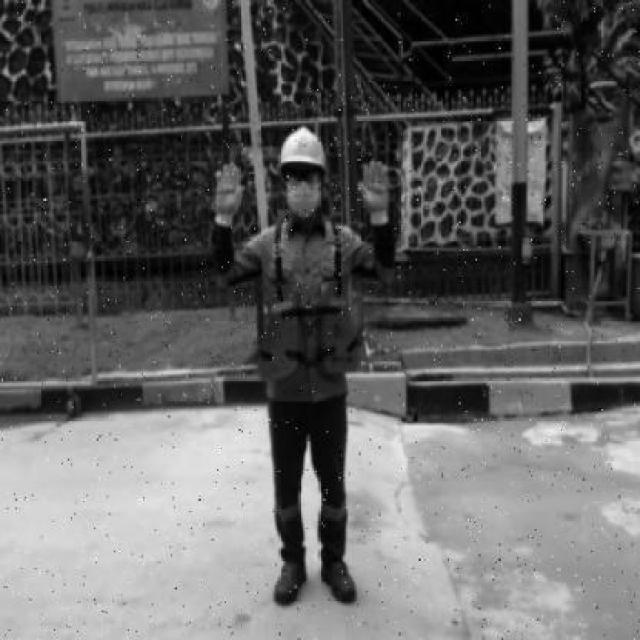Gloves: (354, 157, 398, 228), (210, 162, 247, 233)
Helmet: (278, 125, 328, 173)
Mask: (285, 180, 321, 217)
Protective Glasses: (282, 164, 320, 184)
Vest: (253, 277, 364, 385)
